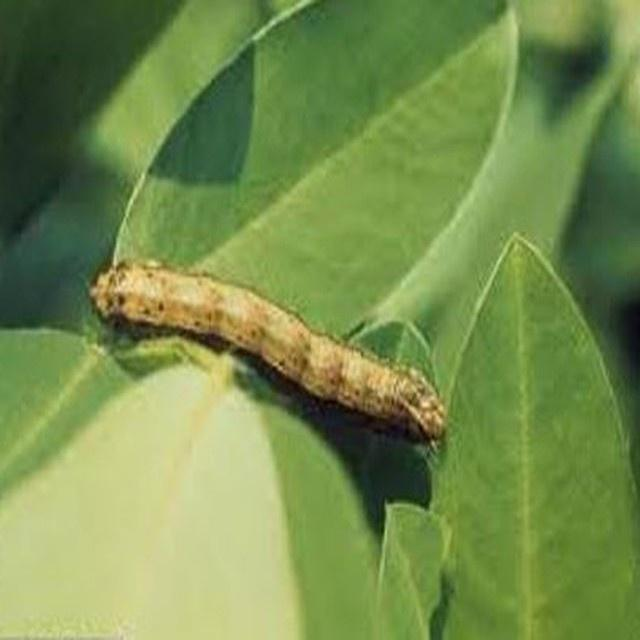gusano_cogollero: (91, 265, 448, 437)
